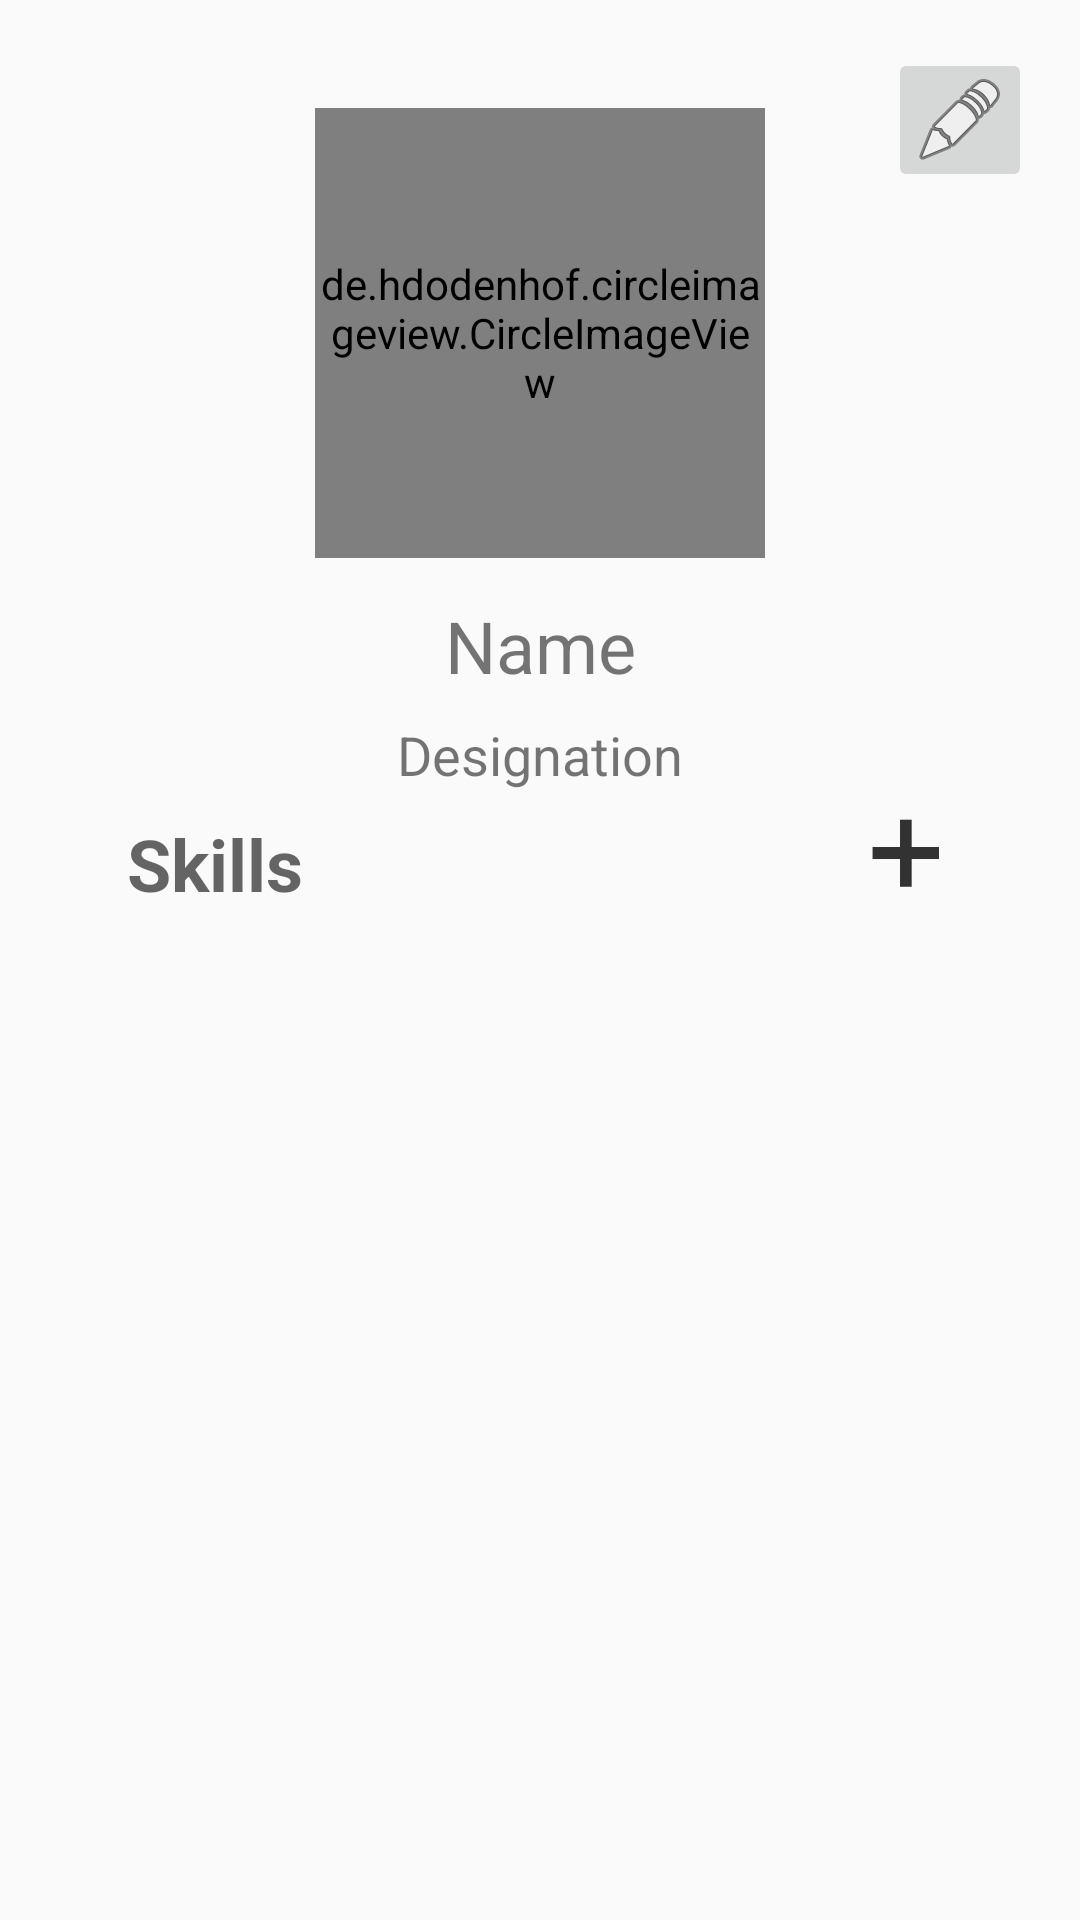

Icon click points for this 1080 × 1920 phone screenshot, format [x,y]:
add: [905,853]
edit: [960,120]
